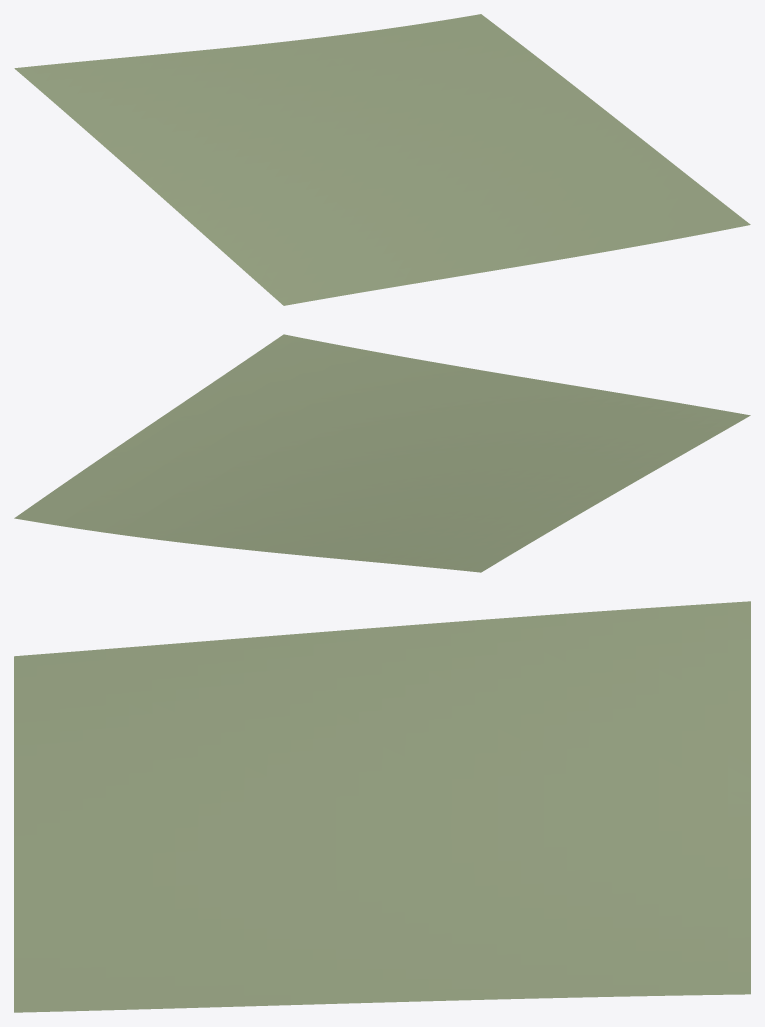
Rendered from expanse-18-19.glb.
The picture shows the model from 3 angles, top to bottom: view 1: azimuth 30°, elevation 25°; view 2: azimuth 150°, elevation 25°; view 3: azimuth 270°, elevation 25°; orthographic projection. The views are drawn at different scales.
Visible parts, largest first — view 1: expanse-18-19; view 2: expanse-18-19; view 3: expanse-18-19.
Part boxes in pixels (x1,y1,x2,y2): expanse-18-19: [14, 14, 750, 305]; expanse-18-19: [14, 334, 750, 572]; expanse-18-19: [14, 601, 750, 1012].
Bounding box in the file's own units: 256 × 38.31 × 256.
